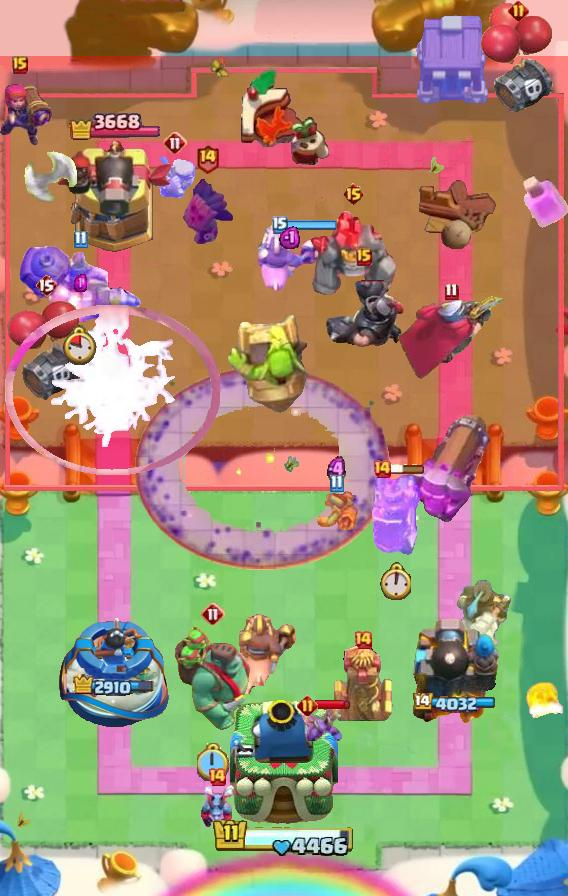arrows: (152, 157, 198, 200)
barbarian-evolution: (4, 304, 219, 476)
bomb: (411, 12, 491, 106)
cannoneer-tower: (308, 208, 398, 298)
clock: (212, 817, 356, 859)
electro-spirit: (326, 457, 345, 484), (279, 225, 300, 249), (74, 274, 86, 292)
elixir: (63, 325, 97, 365), (198, 743, 231, 781), (379, 562, 411, 600)
elixir-golem-big: (369, 470, 421, 556)
emote: (287, 220, 338, 230), (390, 463, 426, 475), (315, 699, 351, 711)
freeze: (239, 614, 297, 694), (258, 222, 320, 296)
furnace: (405, 410, 491, 534)
giant-snowball: (312, 489, 360, 531)
goblin-barrel: (179, 177, 235, 249)
goblin-brawler: (332, 642, 394, 726)
inferno-dragon: (455, 574, 513, 650)
king-tower: (230, 698, 338, 826)
knight-evolution: (524, 175, 568, 228)
lava-hound: (171, 627, 255, 733)
mega-minion: (0, 76, 56, 148)
queen-tower: (54, 614, 173, 730)
rocket: (134, 366, 390, 570)
royal-delivery: (299, 703, 343, 749), (200, 784, 234, 830)
royal-giant: (23, 141, 79, 203)
royal-guardian: (323, 268, 405, 350)
royal-recruit-evolution: (479, 0, 557, 116), (7, 299, 85, 405)
selected: (68, 109, 159, 145), (72, 673, 155, 699), (411, 693, 495, 714)
text: (195, 142, 220, 173), (163, 131, 187, 155), (201, 602, 225, 626), (342, 182, 365, 206), (35, 273, 57, 297), (297, 695, 318, 716), (508, 0, 529, 20), (372, 459, 392, 479), (353, 630, 373, 650), (207, 767, 227, 787), (12, 56, 28, 74), (272, 216, 288, 234), (356, 248, 372, 266), (328, 475, 343, 494), (445, 283, 460, 301), (73, 231, 87, 249)
tower-bar: (53, 138, 175, 256), (406, 611, 500, 731)
valkyrie: (520, 678, 568, 722)
wall-breaker-evolution: (395, 294, 507, 382)
wizard: (18, 245, 142, 323)
x-bow: (225, 313, 309, 415)
